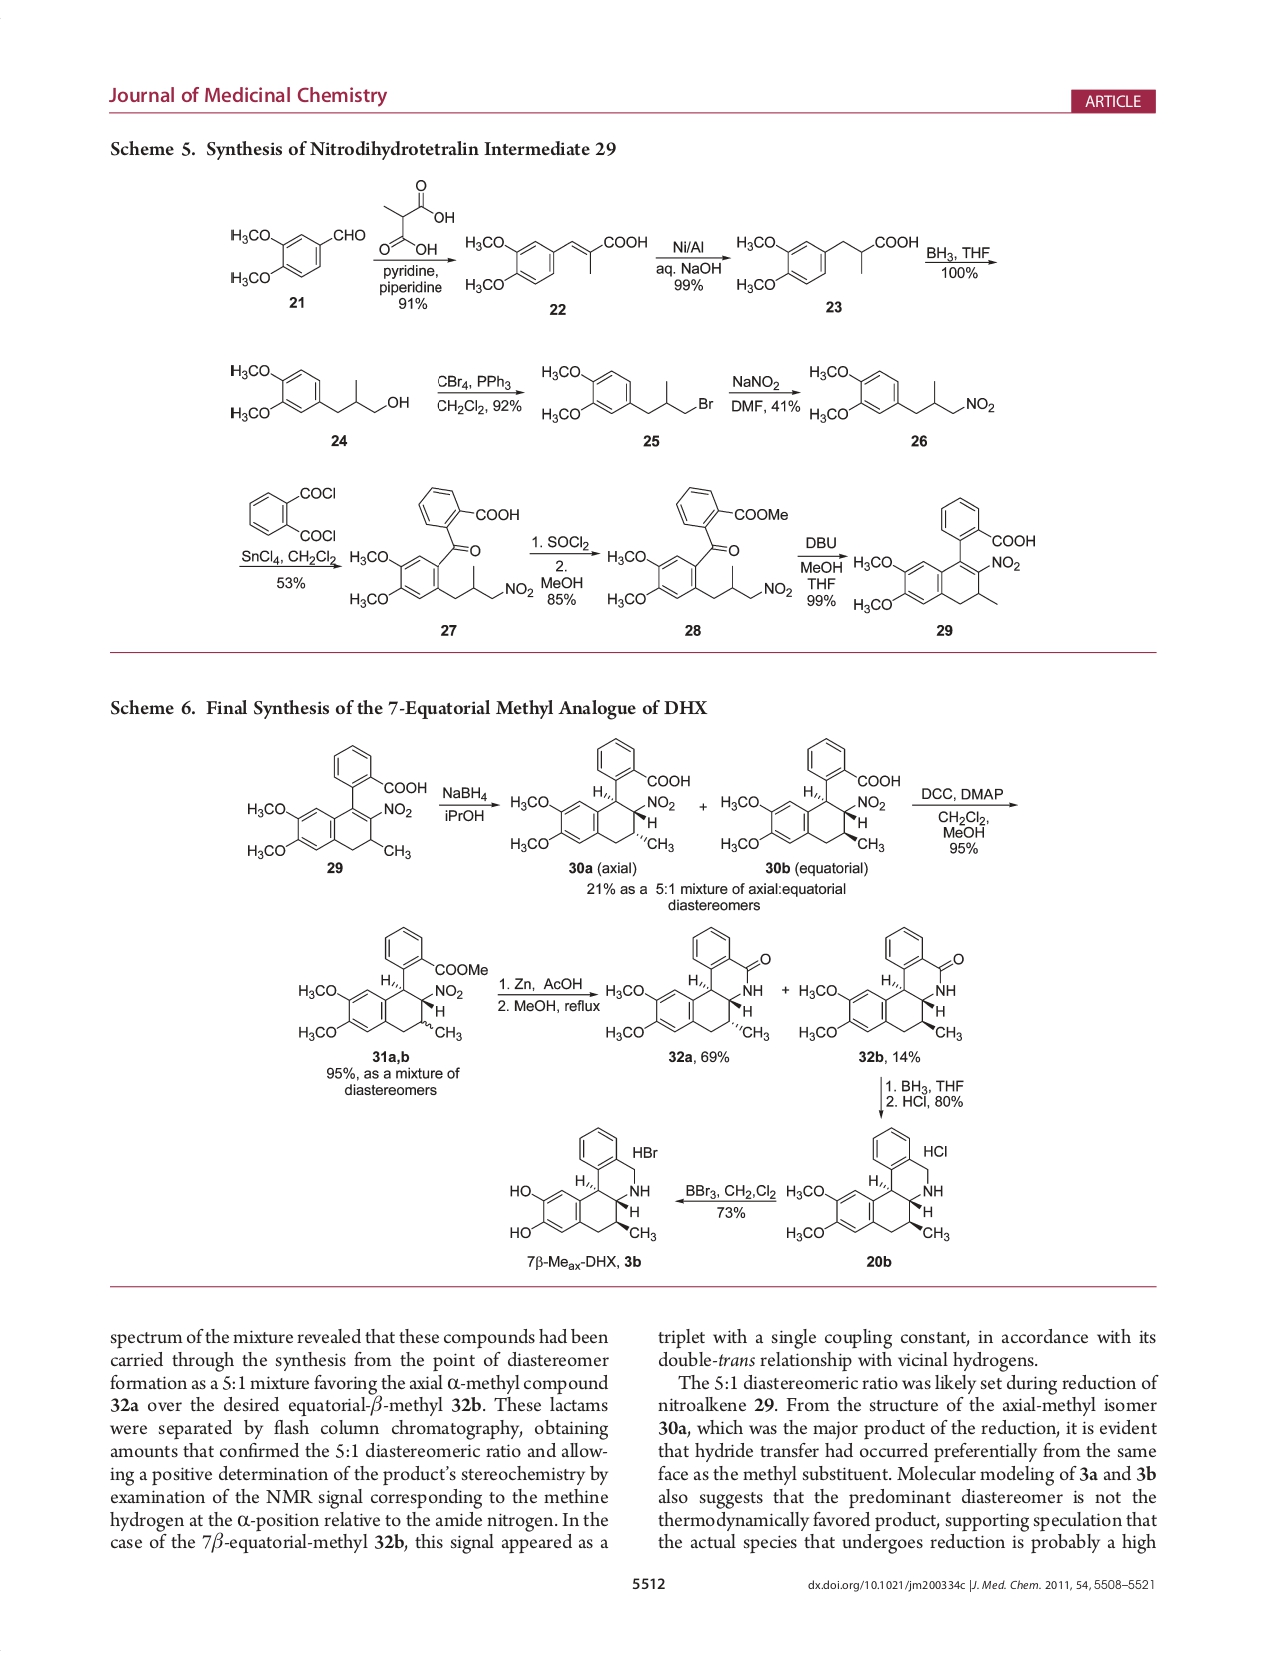exist_molecular: (297, 919, 492, 1044), (347, 481, 535, 610), (605, 484, 795, 610), (850, 493, 1039, 614), (715, 734, 903, 855), (509, 734, 694, 856), (245, 739, 430, 860), (602, 920, 775, 1043), (797, 923, 969, 1043), (785, 1124, 957, 1242), (508, 1121, 662, 1243), (463, 226, 650, 295), (731, 229, 922, 297), (805, 360, 996, 426), (225, 359, 410, 423), (536, 360, 714, 426), (229, 222, 366, 289), (376, 176, 456, 255), (247, 481, 340, 547)
